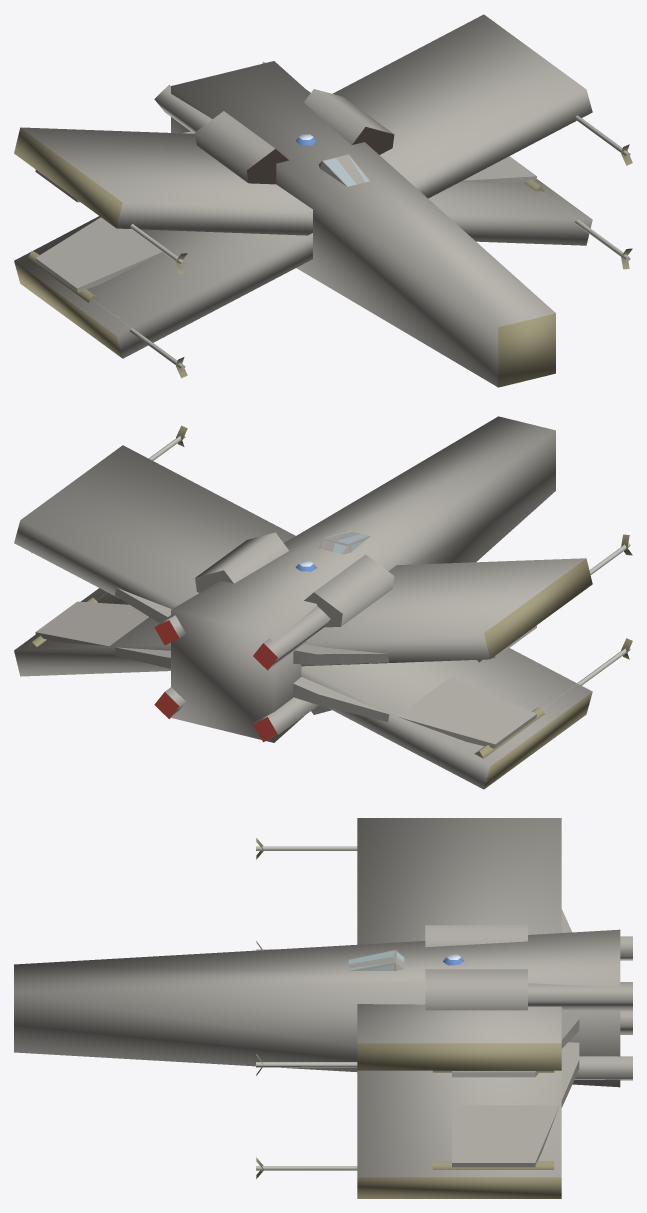
File: xwing.fbx
The picture shows the model from 3 angles, top to bottom: view 1: azimuth 30°, elevation 25°; view 2: azimuth 150°, elevation 25°; view 3: azimuth 270°, elevation 25°; orthographic projection.
Visible parts, largest first — view 1: LOD, WingBottomRight, WingTopRight, WingTopLeft, WingBottomLeft, Cockpit; view 2: LOD, WingBottomRight, WingTopRight, WingBottomLeft, WingTopLeft, Cockpit; view 3: LOD, WingBottomLeft, WingTopLeft, WingTopRight, Cockpit.
Boxes of the visible parts, left/top/right/bottom form: LOD: left=14, top=14, right=592, bottom=387; WingBottomRight: left=27, top=217, right=187, bottom=378; WingTopRight: left=35, top=84, right=288, bottom=273; WingTopLeft: left=262, top=61, right=632, bottom=165; WingBottomLeft: left=461, top=156, right=632, bottom=269; Cockpit: left=318, top=154, right=369, bottom=186; LOD: left=14, top=416, right=592, bottom=789; WingBottomRight: left=253, top=638, right=632, bottom=758; WingTopRight: left=253, top=534, right=632, bottom=670; WingBottomLeft: left=28, top=592, right=185, bottom=719; WingTopLeft: left=31, top=425, right=288, bottom=644; Cockpit: left=318, top=530, right=369, bottom=554; LOD: left=14, top=818, right=620, bottom=1198; WingBottomLeft: left=256, top=1042, right=632, bottom=1178; WingTopLeft: left=256, top=969, right=632, bottom=1077; WingTopRight: left=256, top=838, right=632, bottom=960; Cockpit: left=348, top=950, right=404, bottom=970.
Size of the model in its own units: 1390 by 436 by 1572.
Materials: 4 (3 with a texture image).
